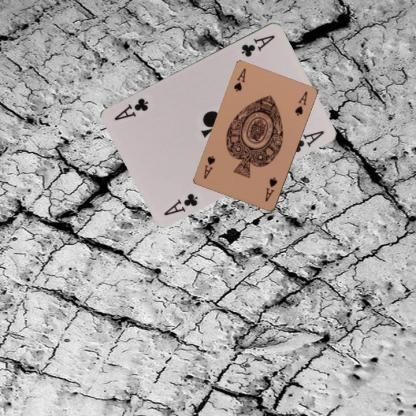Ac: (162, 190, 200, 217), (239, 32, 276, 58)
As: (231, 66, 247, 93), (263, 175, 278, 203)
